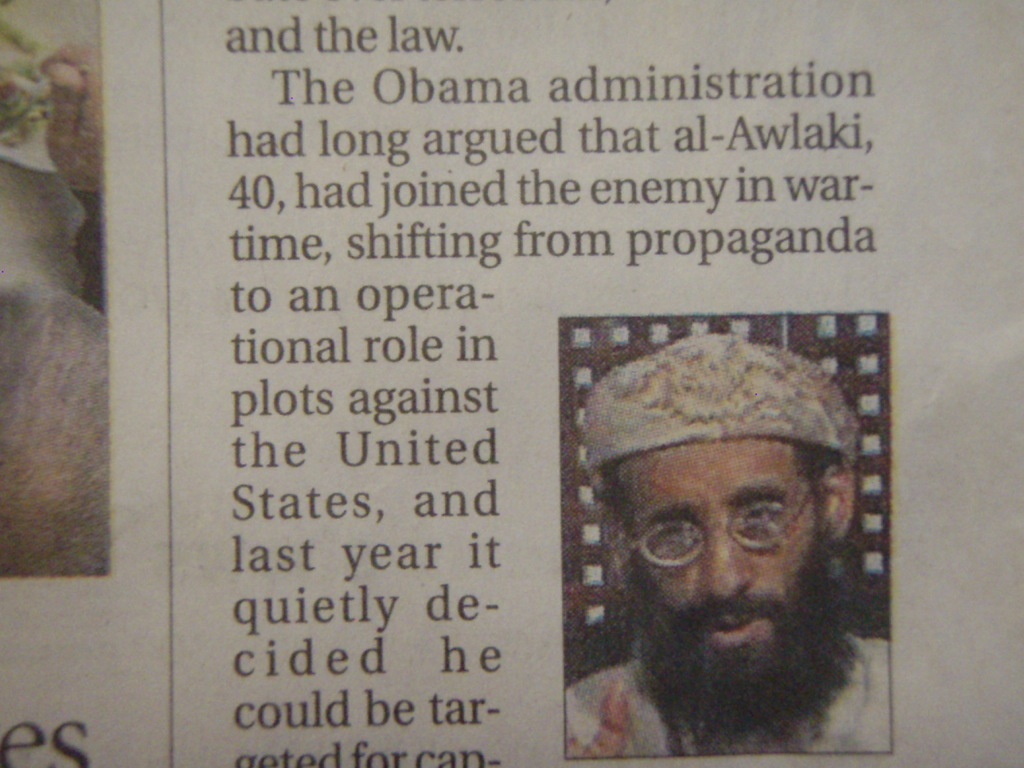Person: (564, 332, 891, 760)
